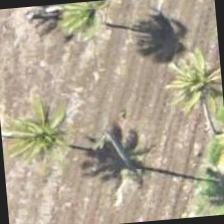Kelapa_Sawit: (0, 84, 82, 181), (150, 41, 223, 138), (34, 0, 129, 57)
